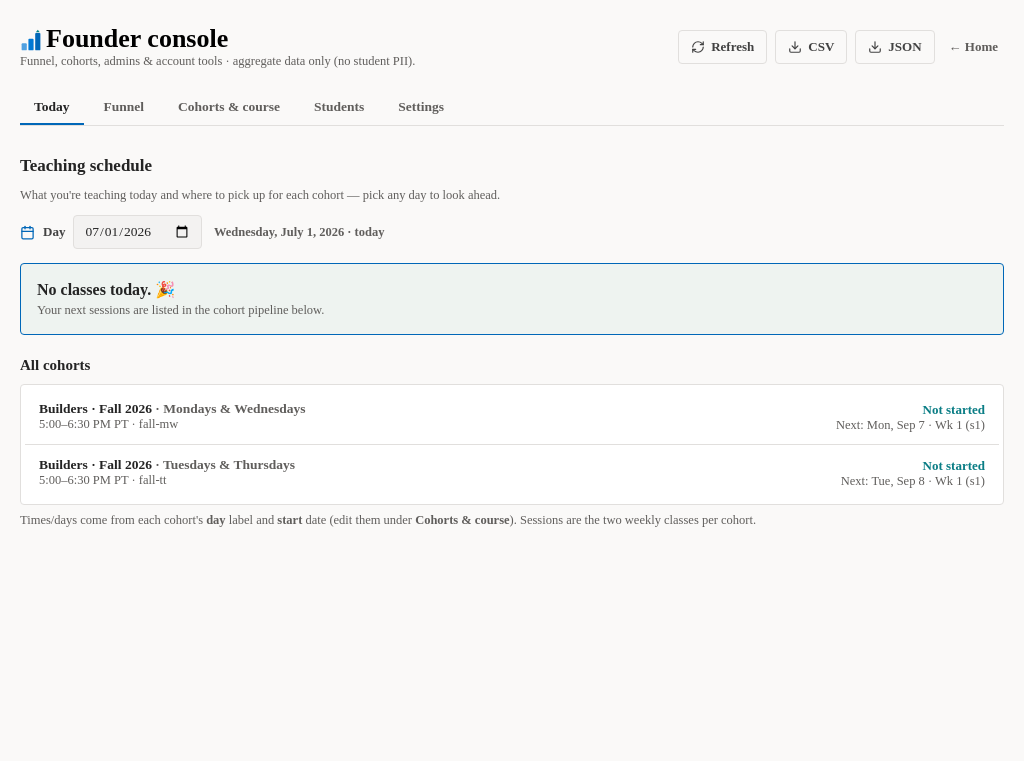
Test: FounderDashboard (account-gated) › 'Which screens hold attention' shows the low-volume Scholarship application screen (not truncated off the top-8)
Click the button "Funnel" at (124, 106), box x1=104 y1=99 x2=144 y2=114
(page scrolled)
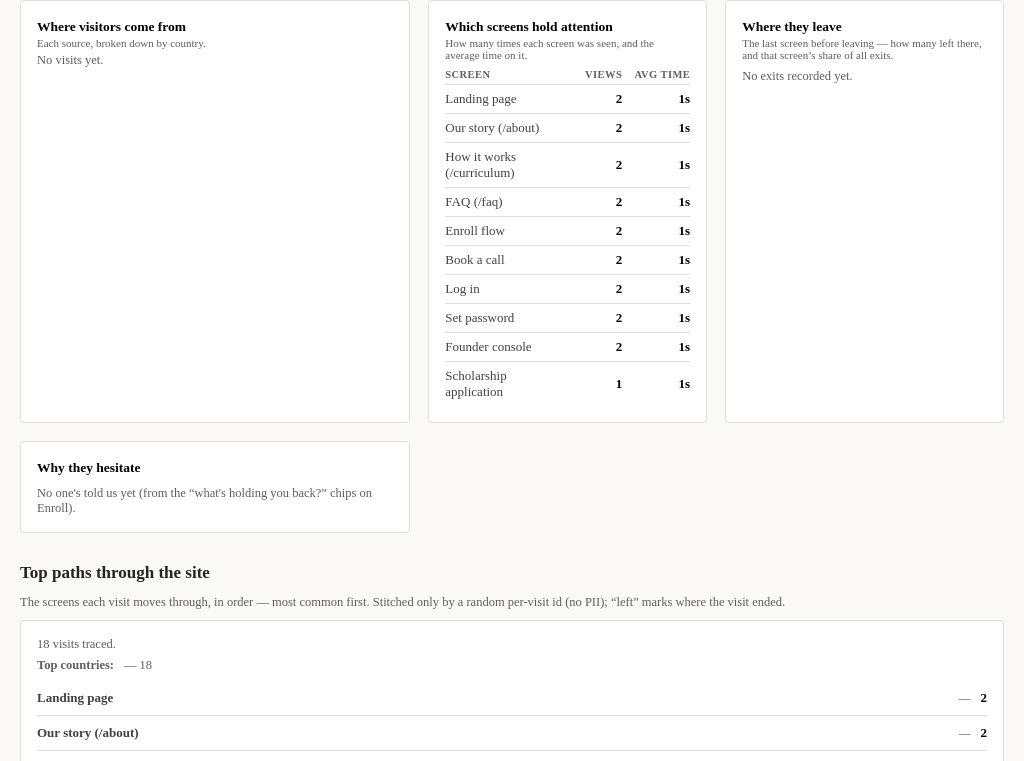
Now the text "Which screens hold attention" is shown, box x1=445 y1=19 x2=613 y2=34
Now the text "Scholarship application" is shown, box x1=445 y1=368 x2=507 y2=399
